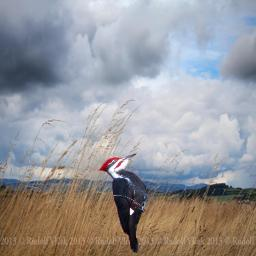Woodpecker: (98, 153, 154, 253)
